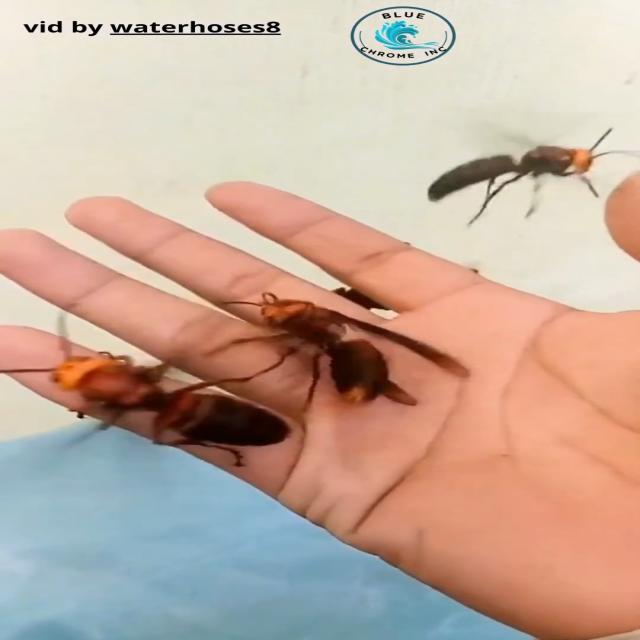Hornets: (4, 304, 292, 466), (208, 292, 471, 407), (426, 125, 638, 228)
